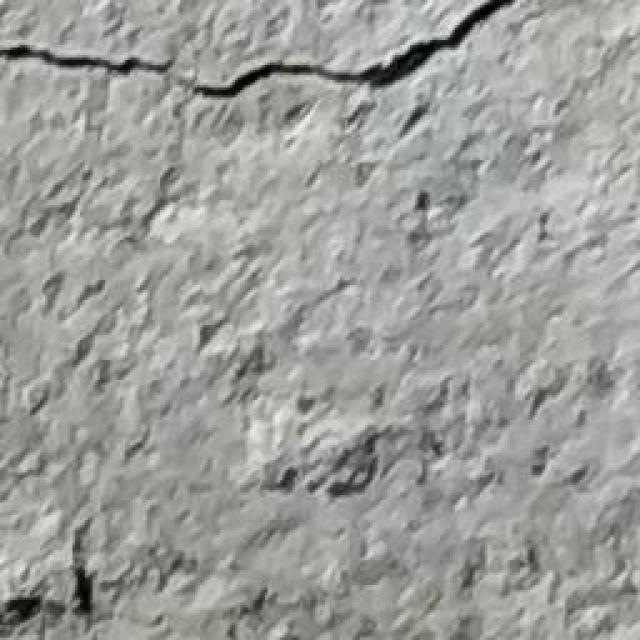Transverse: (0, 0, 525, 88)
